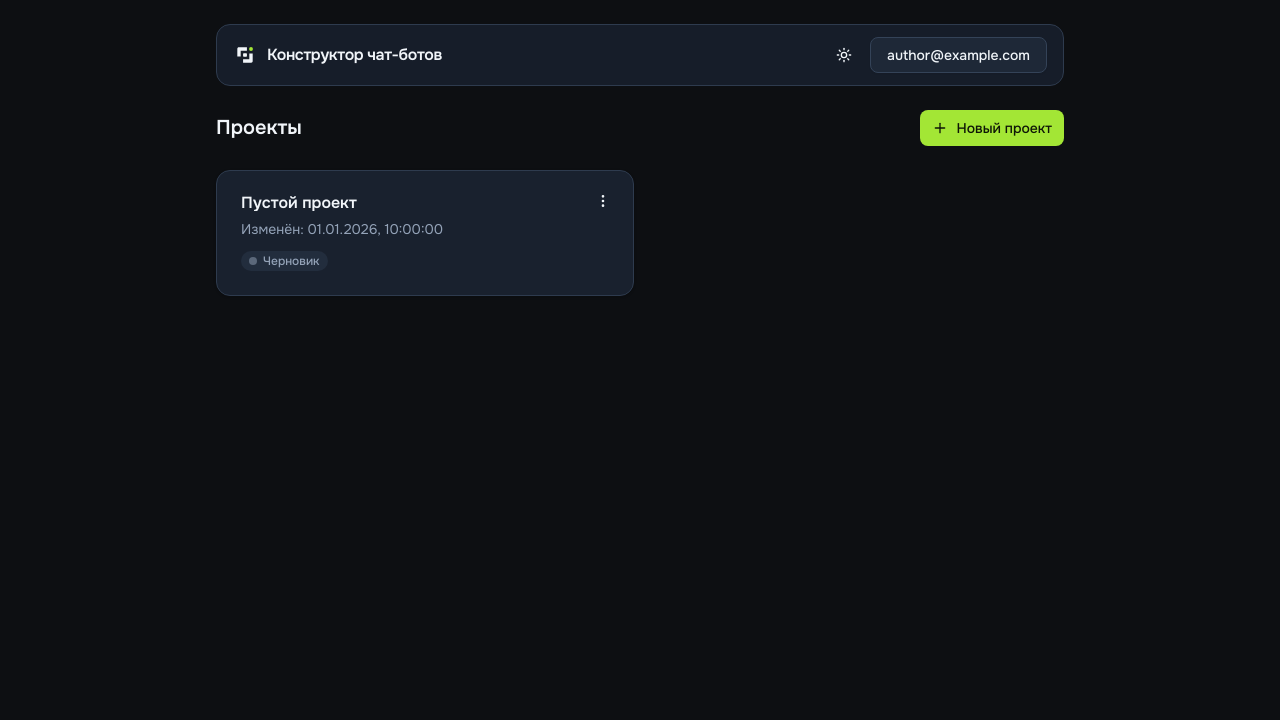
ProjectsPage › при удалении проекта без ботов не показывает предупреждение о ботах
Check: the text "Пустой проект" is shown, box [241,192,357,213]
Click the button named "Действия с проектом «Пустой проект»" at [603, 201], box [585,183,621,219]
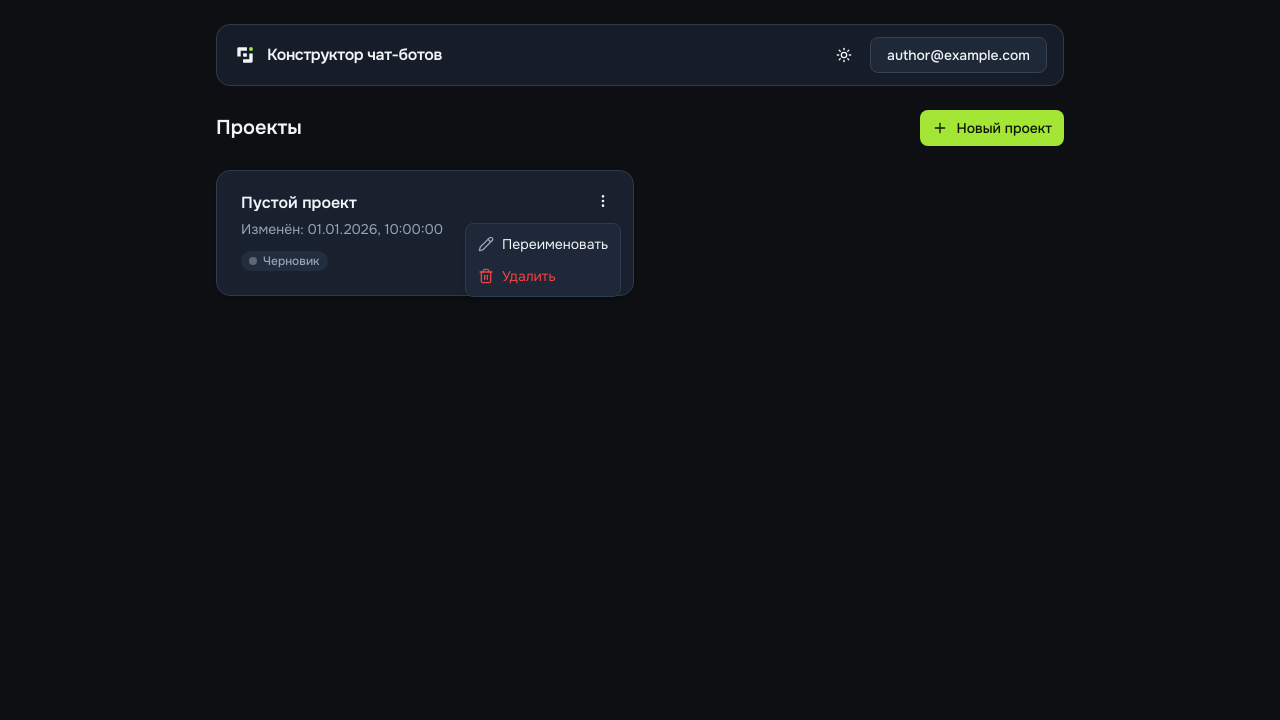
Click the menu item "Удалить" at [517, 276], box [478,267,556,285]
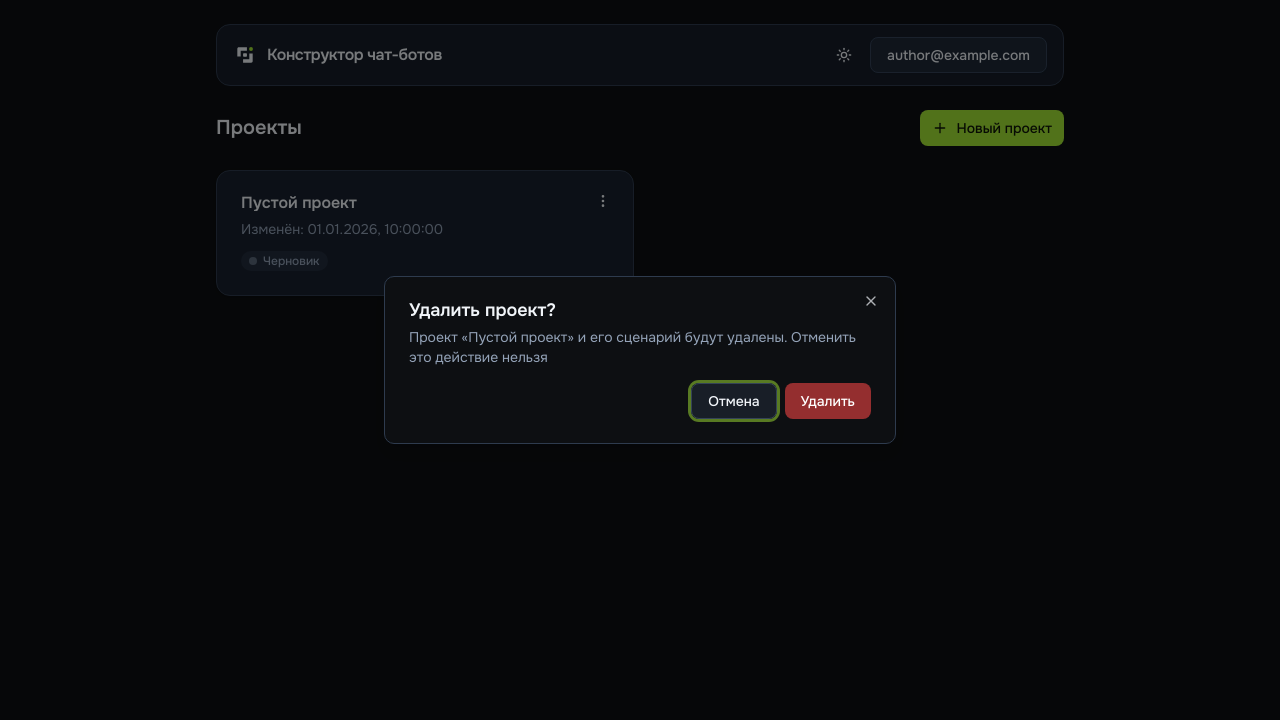
Check: the heading "Удалить проект?" is shown, box [409,299,556,321]
